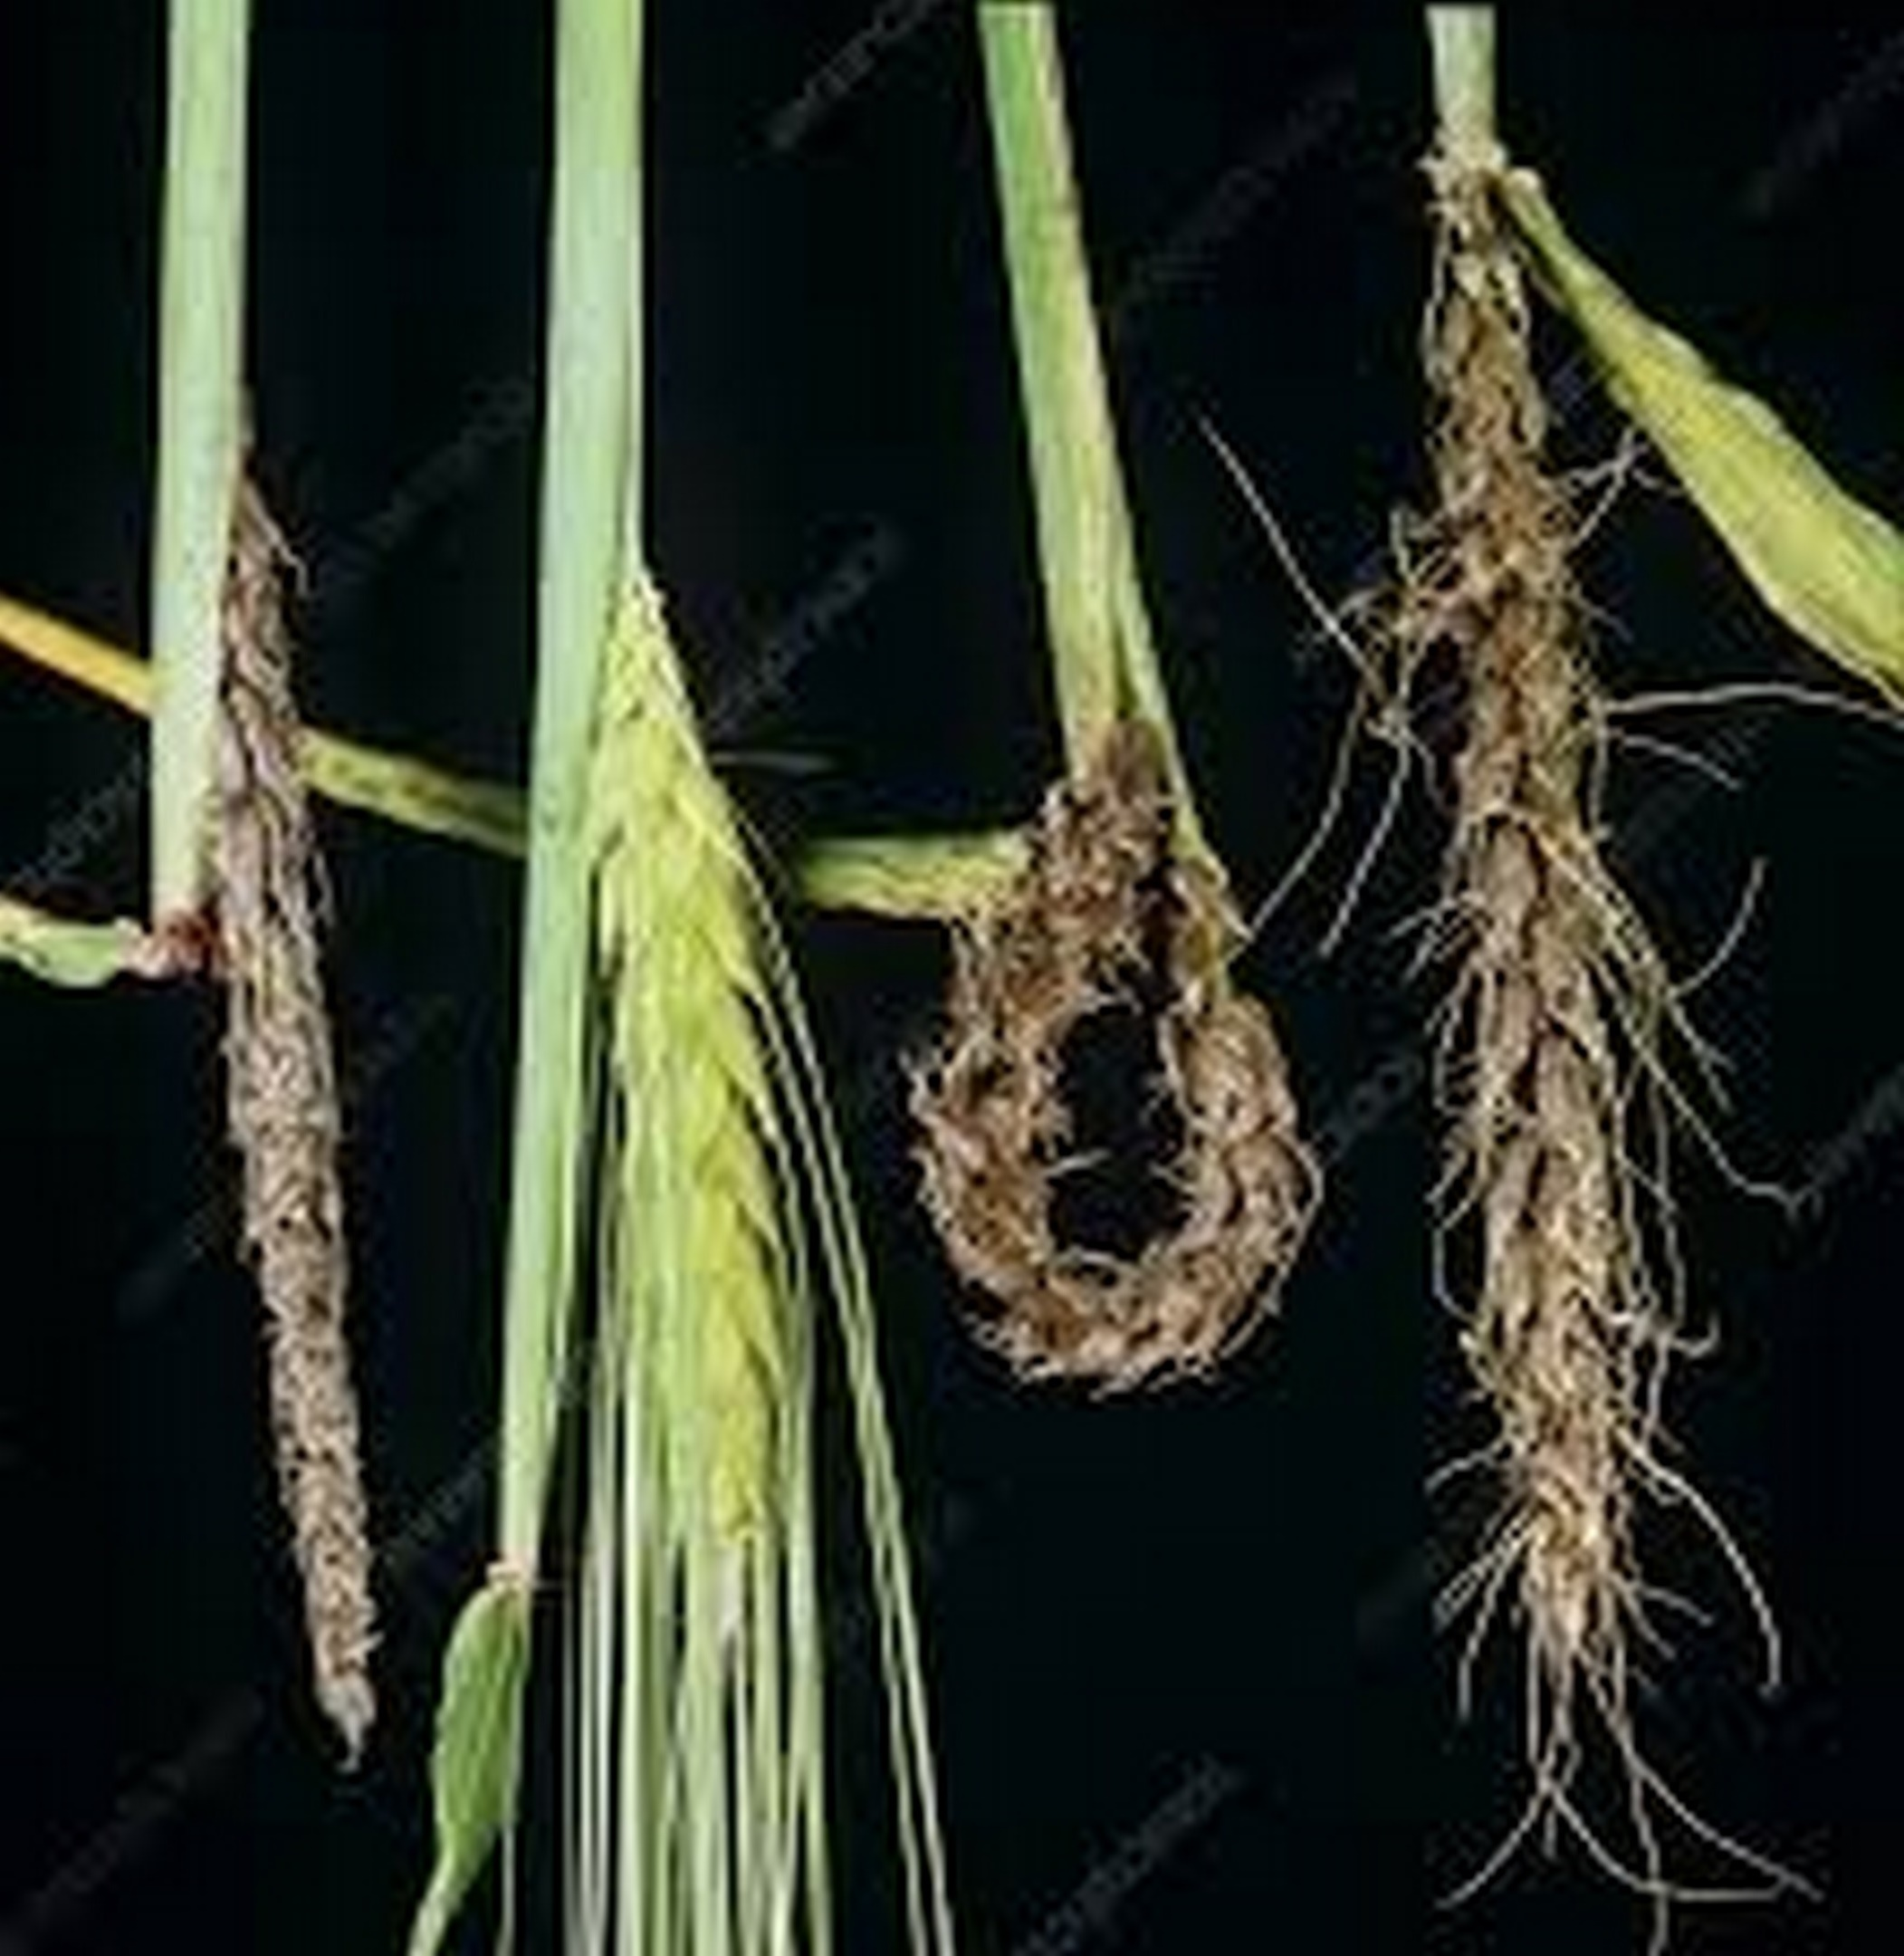Wheat Loose Smut: (1382, 257, 1721, 1731), (180, 498, 445, 1725)
